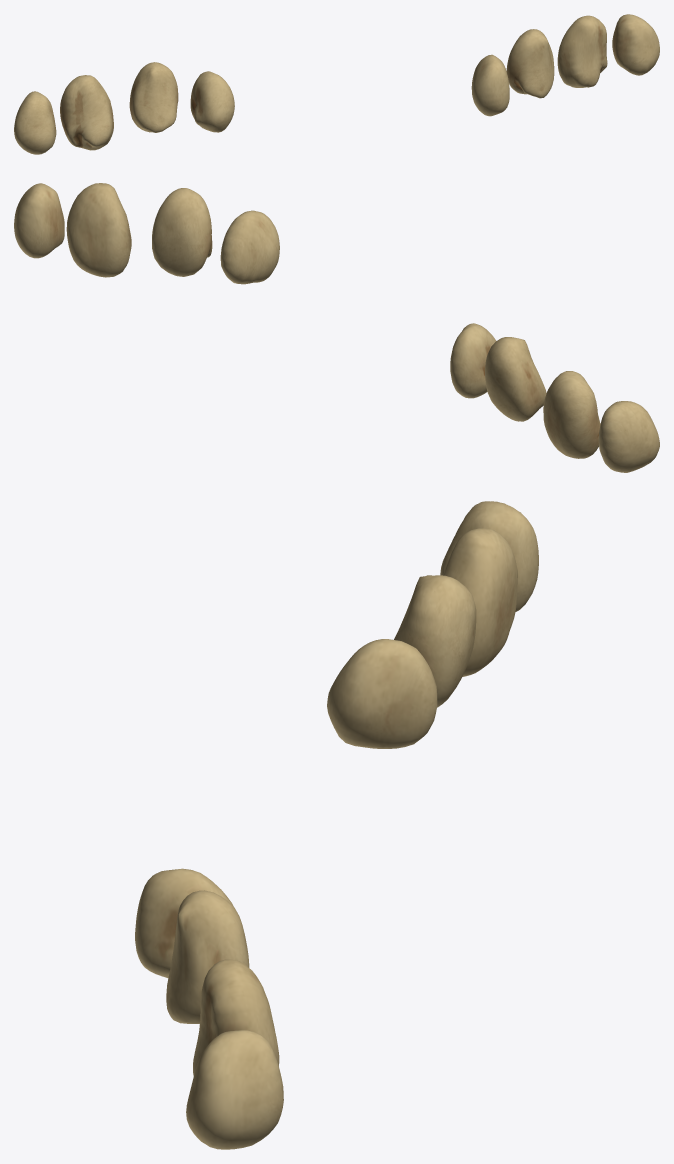
Rendered from Sesamoids.glb.
3 views of the same model, one above another, from view 1: azimuth 30°, elevation 25°; view 2: azimuth 150°, elevation 25°; view 3: azimuth 270°, elevation 25° (orthographic). The views are drawn at different scales.
Parts seen in each view (by area): view 1: Sesamoids; view 2: Sesamoids; view 3: Sesamoids.
Boxes of the visible parts, <box> form: Sesamoids: <box>14,14,659,154</box>; Sesamoids: <box>14,183,659,472</box>; Sesamoids: <box>135,501,538,1149</box>.
Size of the model in its own units: 131 by 16.95 by 39.8.
Materials: 1 (1 with a texture image).
